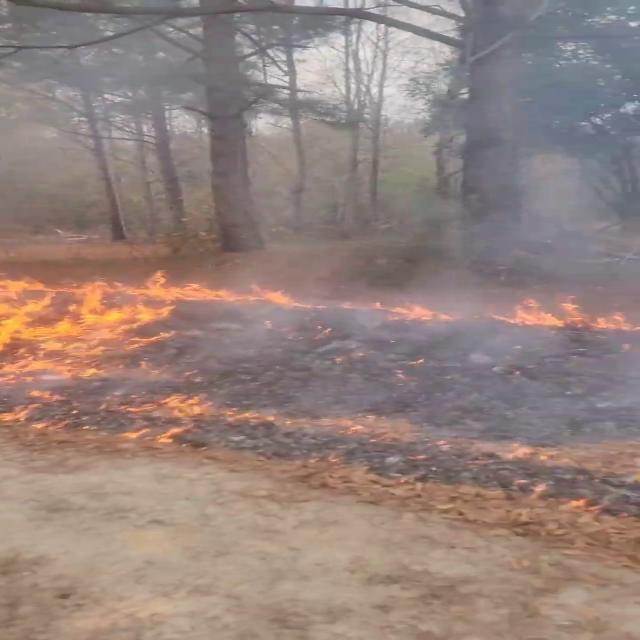Fire: (0, 262, 213, 414), (492, 290, 638, 334)
Smoke: (310, 17, 640, 320)
